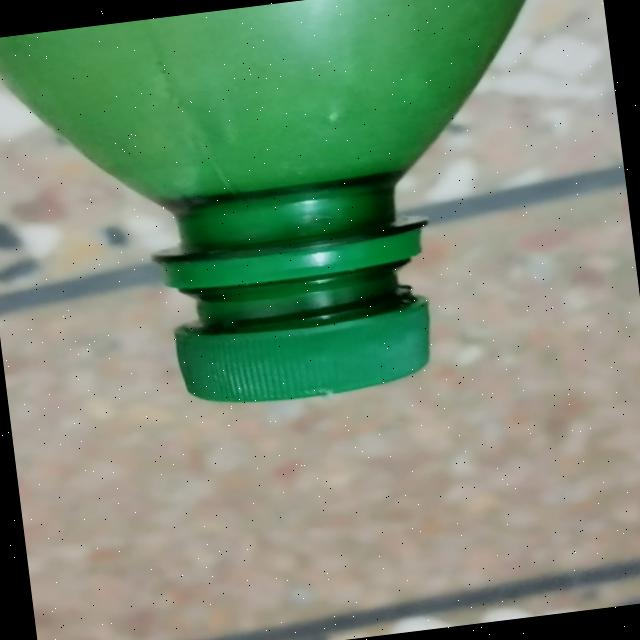cap: (157, 230, 440, 412)
